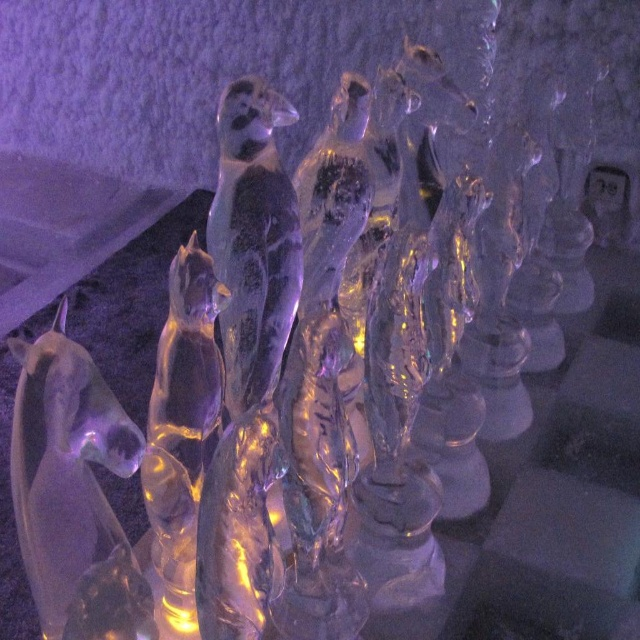Penguin: (202, 75, 299, 419)
